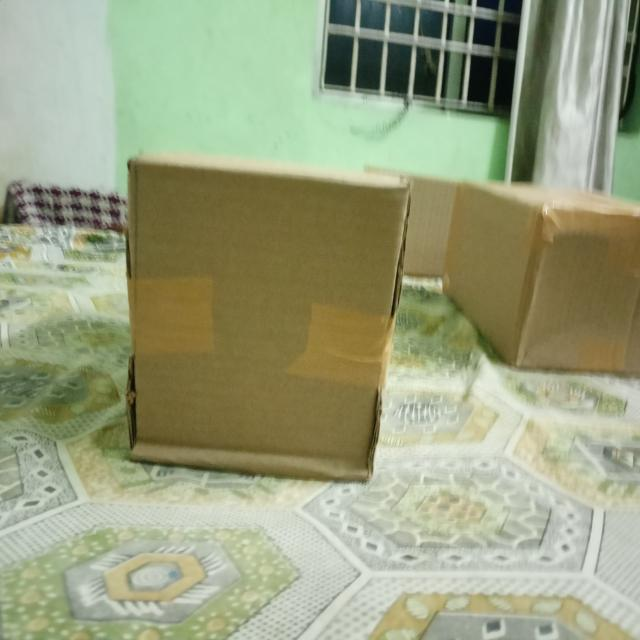box: (131, 166, 413, 477)
